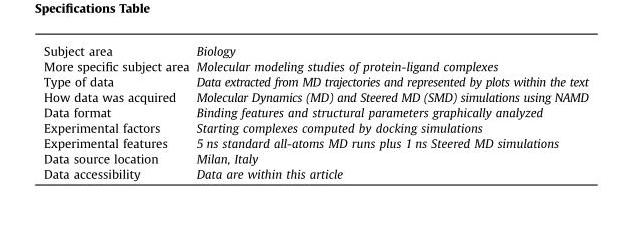table: (43, 43, 587, 180)
table column: (192, 43, 587, 180), (43, 43, 192, 180)
table row: (43, 73, 587, 89), (43, 119, 587, 135), (43, 43, 587, 58), (43, 58, 587, 73), (43, 89, 587, 104), (43, 104, 587, 119), (43, 135, 587, 150), (43, 150, 587, 165), (43, 165, 587, 180)
